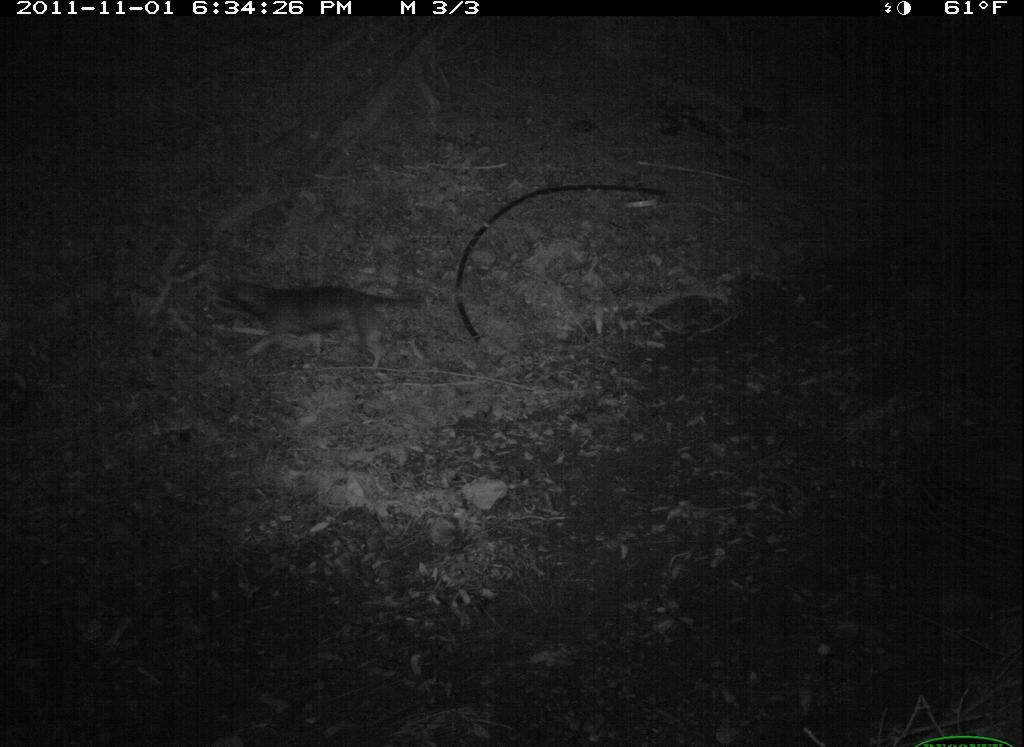dog: (227, 271, 431, 370)
